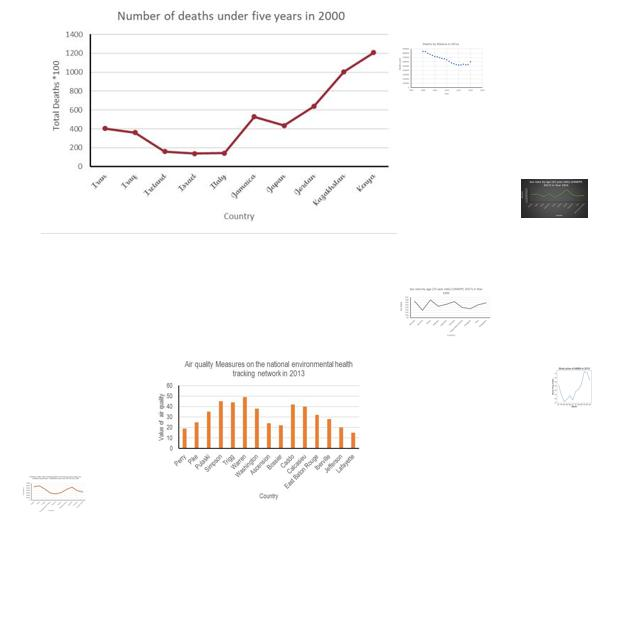Graph: (41, 2, 397, 234), (152, 357, 364, 502), (397, 41, 486, 97), (399, 285, 491, 337), (521, 179, 588, 218), (22, 475, 87, 513), (545, 365, 602, 408)
